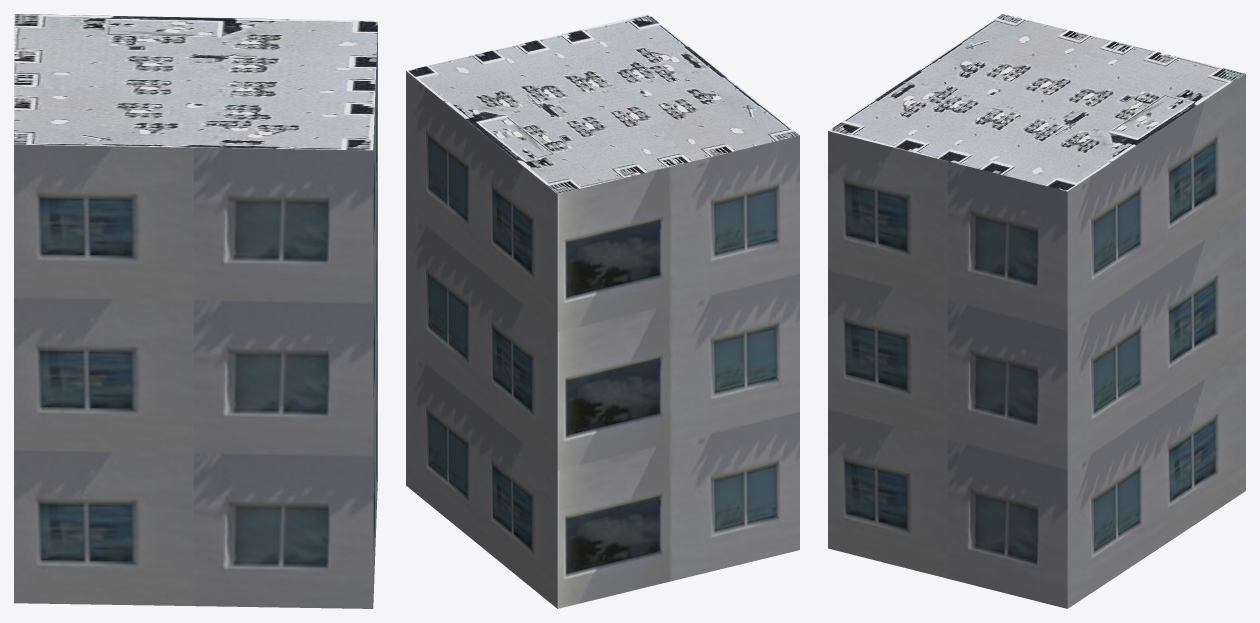
Rendered from ResTex__600.fbx.
3 renders of one model, left to right at view 1: azimuth 30°, elevation 25°; view 2: azimuth 150°, elevation 25°; view 3: azimuth 270°, elevation 25°, orthographic. The views are drawn at different scales.
Parts seen in each view (by area): view 1: CityEngineMaterial_10_m, CityEngineMaterial_4_m; view 2: CityEngineMaterial_10_m, CityEngineMaterial_4_m; view 3: CityEngineMaterial_10_m, CityEngineMaterial_4_m.
Part boxes in pixels (bbox=[...]): CityEngineMaterial_10_m: bbox=[14, 23, 377, 608]; CityEngineMaterial_4_m: bbox=[14, 14, 377, 150]; CityEngineMaterial_10_m: bbox=[406, 71, 799, 608]; CityEngineMaterial_4_m: bbox=[406, 14, 799, 194]; CityEngineMaterial_10_m: bbox=[828, 74, 1245, 608]; CityEngineMaterial_4_m: bbox=[828, 14, 1245, 191].
Bounding box in the file's own units: 8.21 × 9 × 8.16.
Materials: 2 (2 with a texture image).
